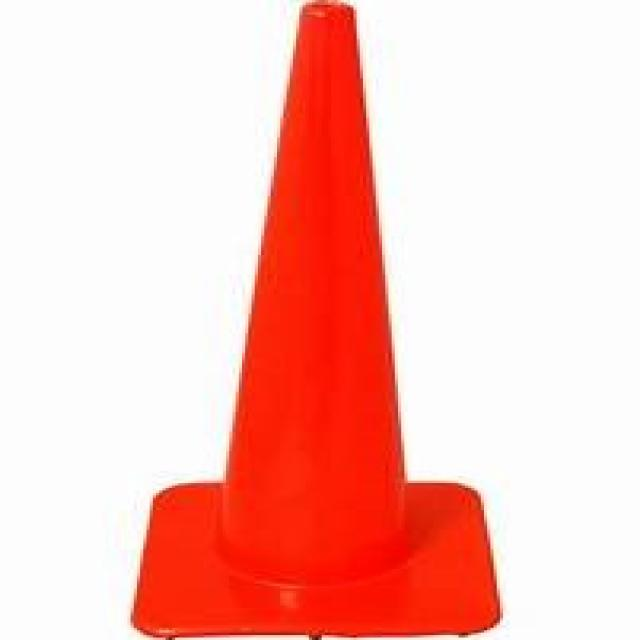traffic cone: (109, 2, 532, 640)
